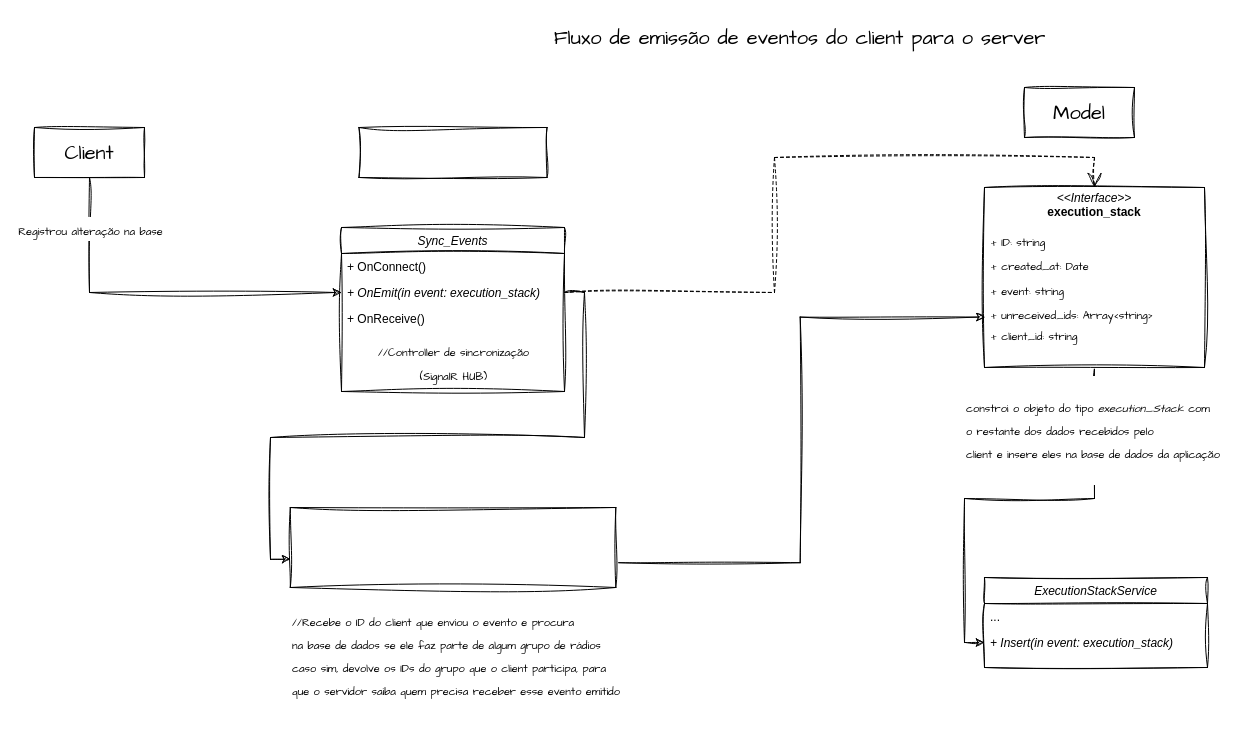
The diagram is 1237 pixels wide and 734 high, and some of its shapes have lost their labels. The centre of each missing label's shape, as x and y in pixels:
"GroupsService + FindGroup(in client_id: string; out clientIdList: string[ ])" goes at [452,547].
"Servidor de sincronização" goes at [452,152].
